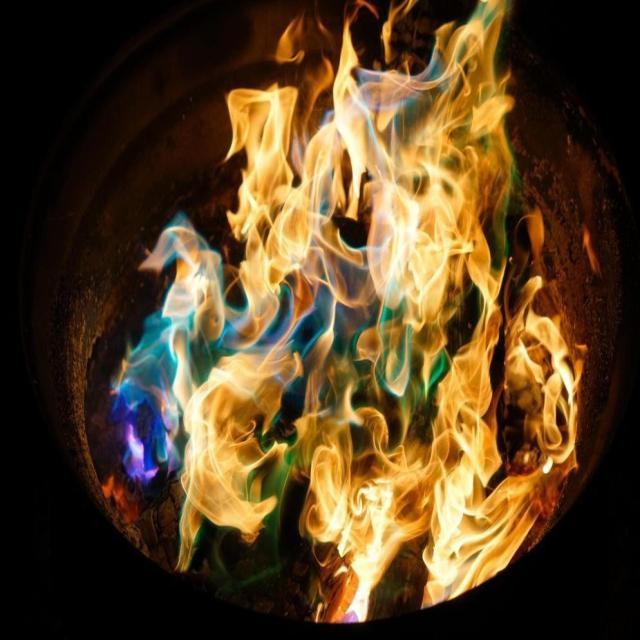Fire: (102, 1, 602, 626)
